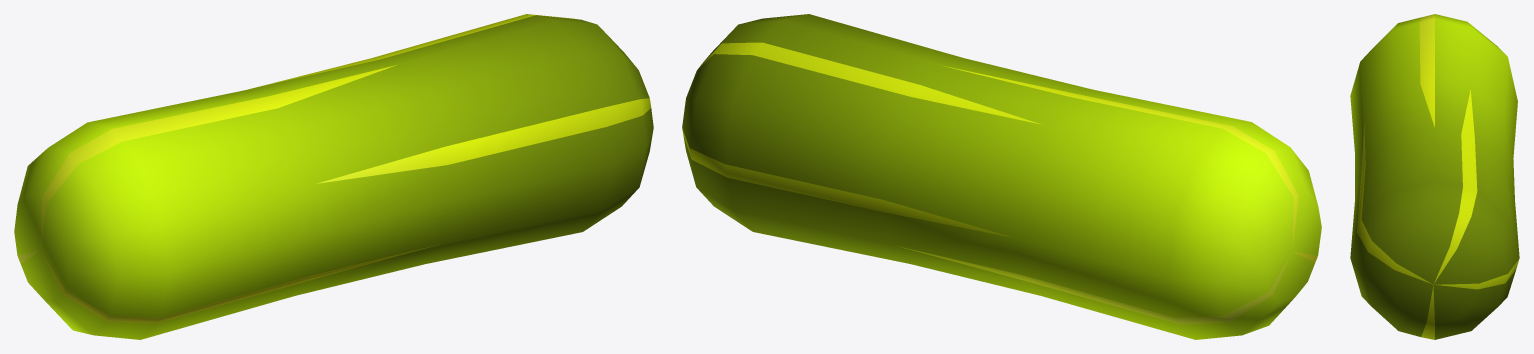
Rendered from Cucumber_01.fbx.
3 views of the same model, side by side, from view 1: azimuth 30°, elevation 25°; view 2: azimuth 150°, elevation 25°; view 3: azimuth 270°, elevation 25° (orthographic). The views are drawn at different scales.
Visible parts, largest first — view 1: Cucumber_01; view 2: Cucumber_01; view 3: Cucumber_01.
Part boxes in pixels (x1,y1,x2,y2): Cucumber_01: (14, 14, 653, 339); Cucumber_01: (682, 14, 1321, 339); Cucumber_01: (1350, 14, 1519, 339).
Bounding box in the file's own units: 120 × 39.51 × 39.51.
